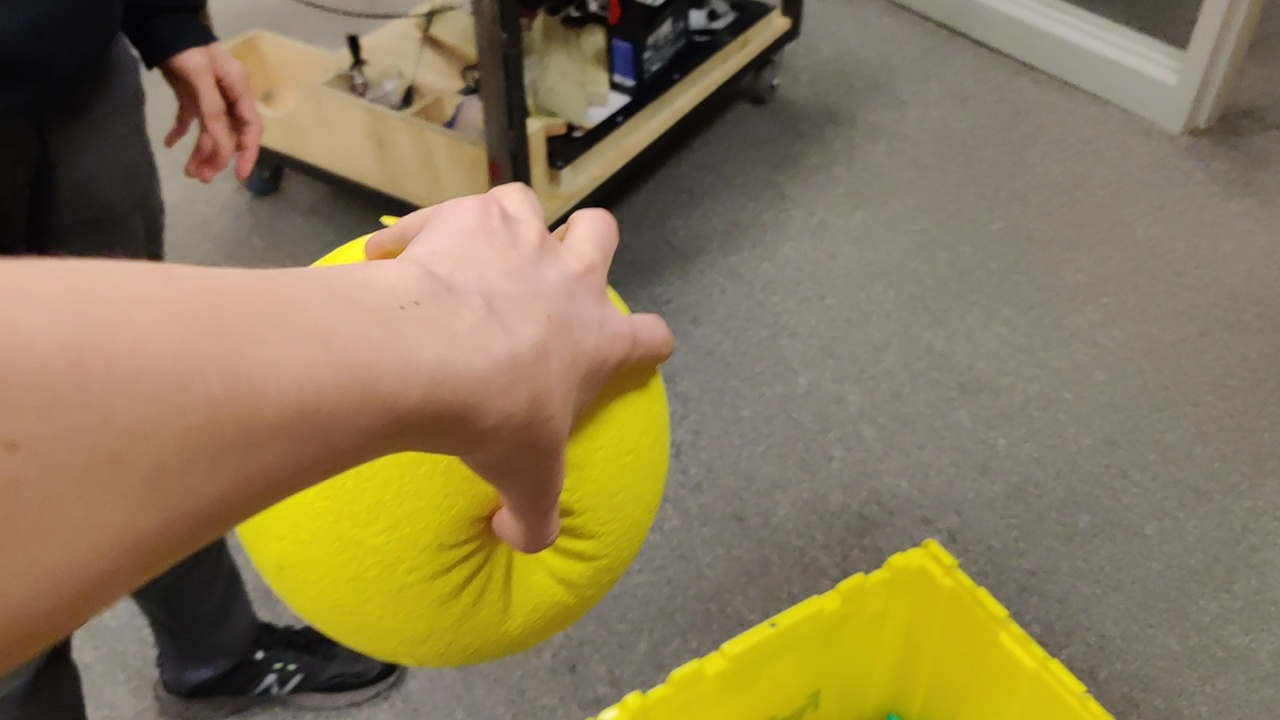Ball: (234, 364, 659, 666)
